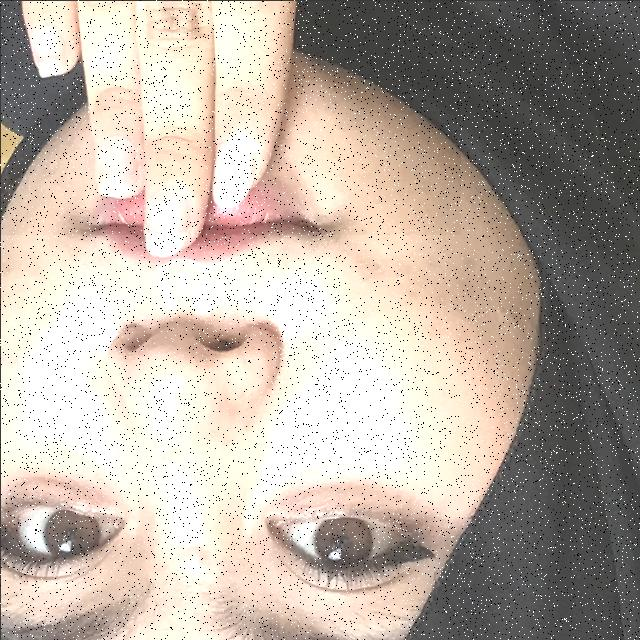ganteng: (0, 0, 460, 234)
